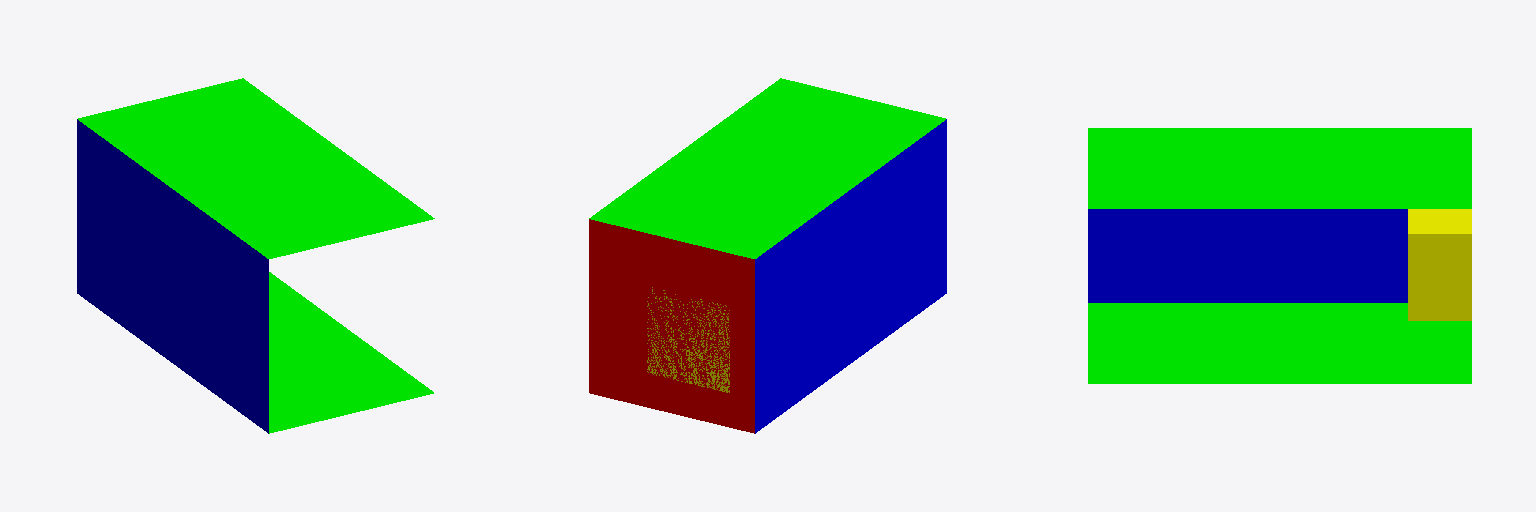
Rendered from cajasConColores.obj.
3 renders of one model, left to right at view 1: azimuth 30°, elevation 25°; view 2: azimuth 150°, elevation 25°; view 3: azimuth 270°, elevation 25°, orthographic.
Visible parts, largest first — view 1: Box01; view 2: Box01, Box02; view 3: Box01, Box02.
Part boxes in pixels (bbox=[...]): Box01: bbox=[77, 78, 434, 433]; Box01: bbox=[589, 78, 946, 433]; Box02: bbox=[647, 287, 729, 392]; Box01: bbox=[1088, 128, 1471, 383]; Box02: bbox=[1408, 209, 1471, 320].
Bounding box in the file's own units: 30 × 30 × 60.